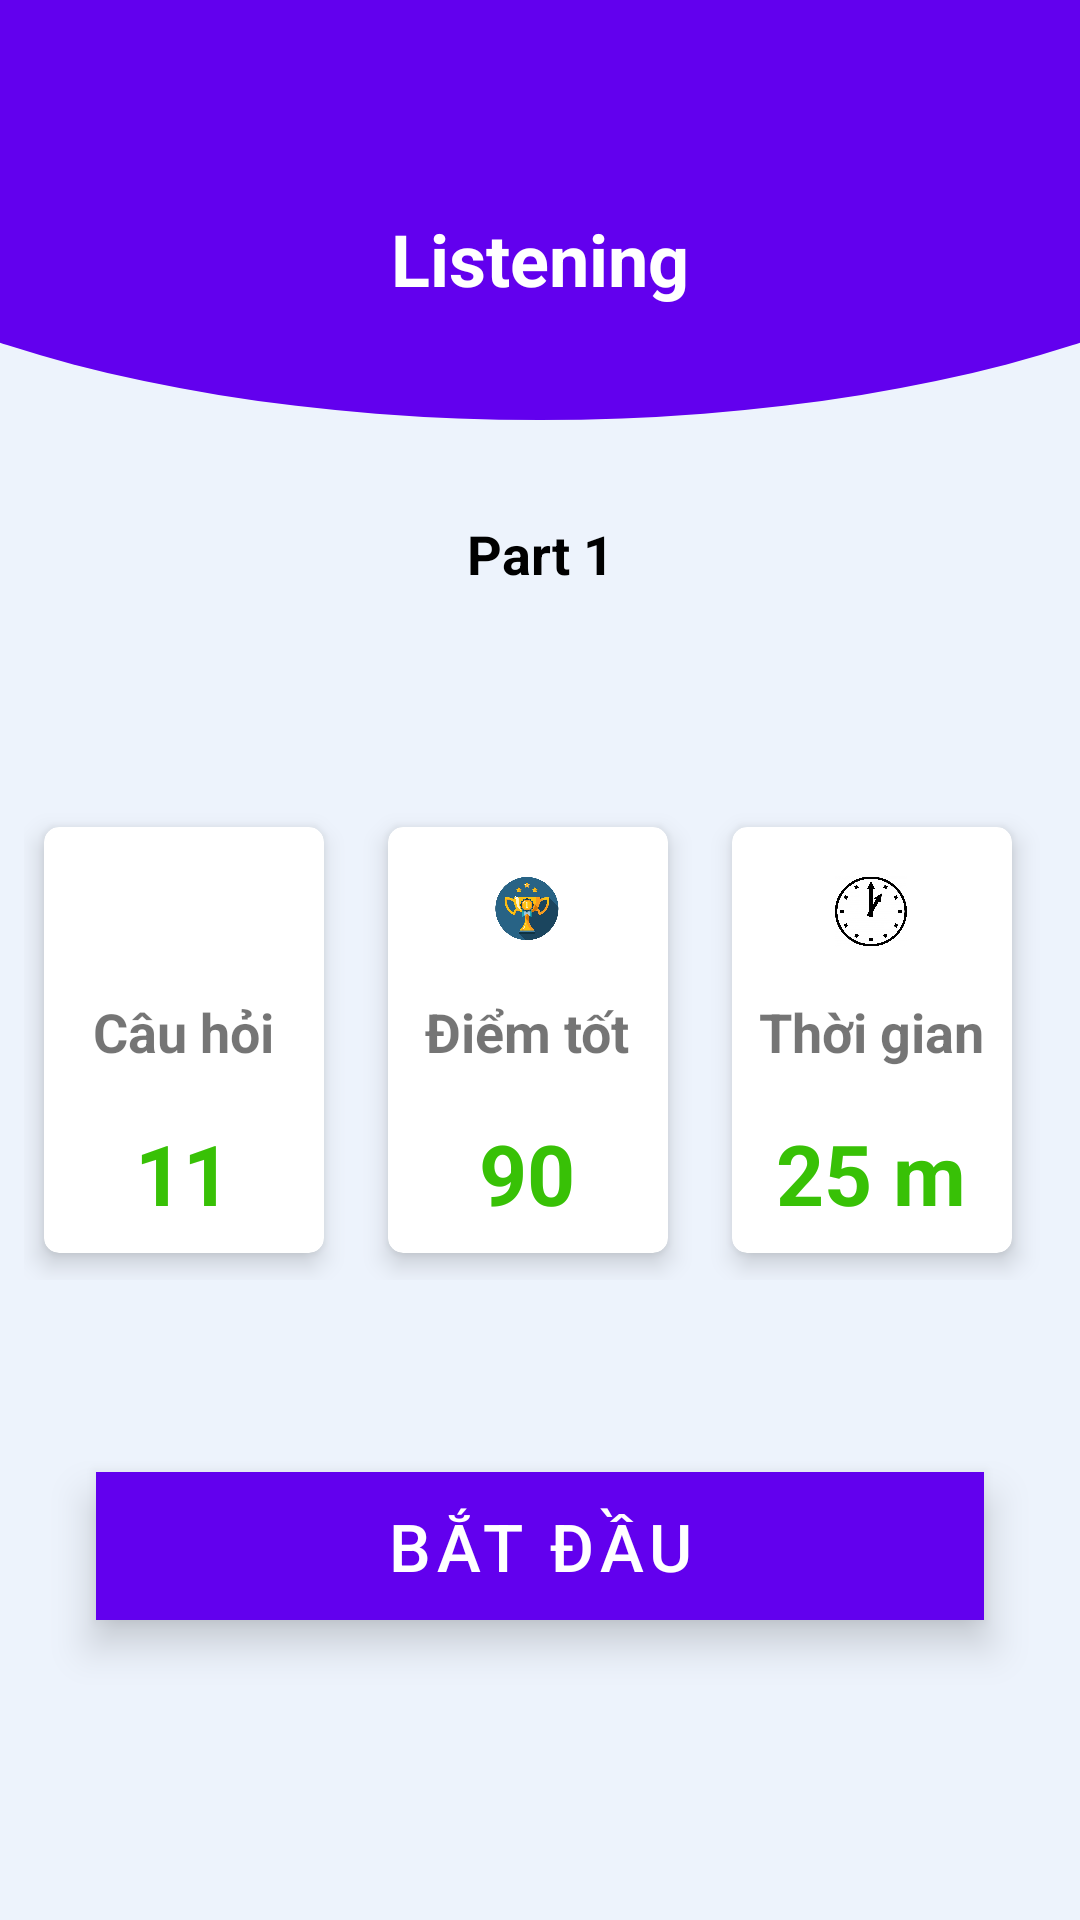

Where icons sit on this 1080x1920 app screen, as (x1, y1, x2, y2):
clock: (835, 877, 907, 946)
win: (495, 877, 559, 940)
